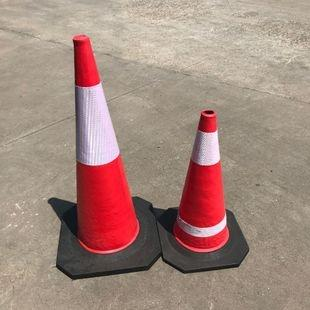cone_barrel: (65, 40, 143, 258), (168, 111, 238, 253)
